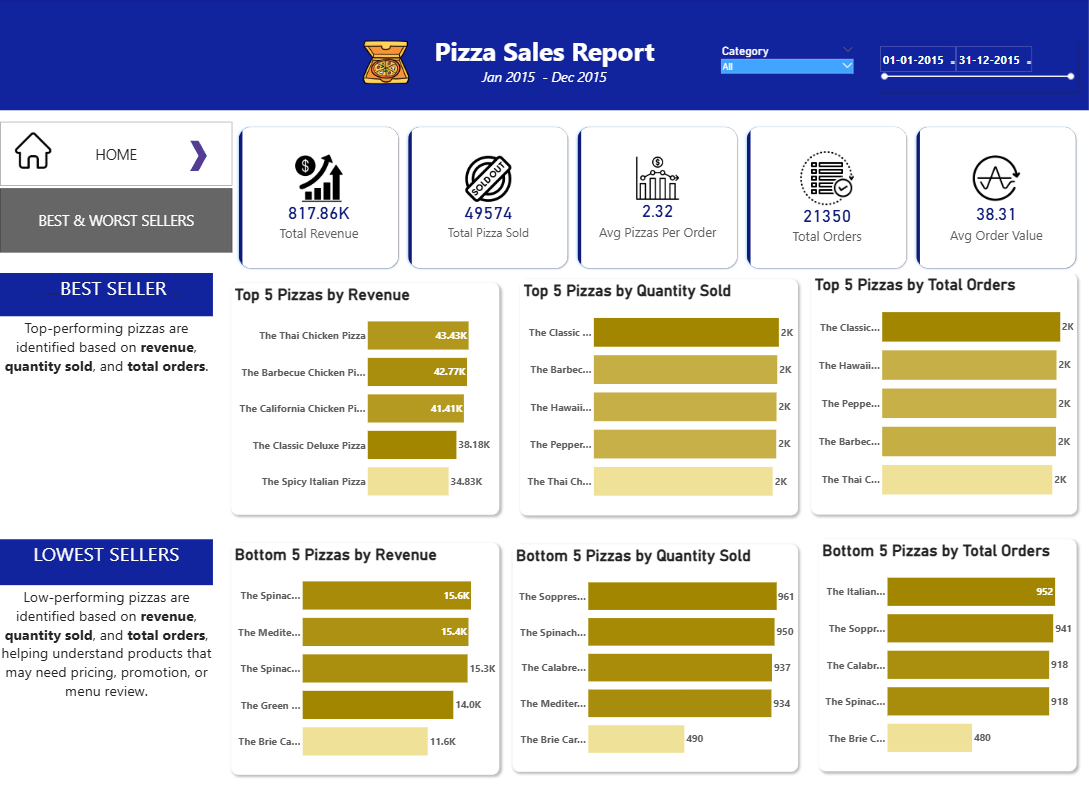

The dashboard page shown, as its layout file describes it:
{"tool":"powerbi","page":{"name":"BEST & WORST SELLERS","canvas":[4500,3300],"ordinal":1},"visuals":[{"type":"textbox","box":[0,0,4499.9,463.7],"z":0},{"type":"clusteredBarChart","title":"Top 5 Pizzas by Revenue","fields":{"Category":["pizza_sales.pizza_name"],"Y":["Sum(pizza_sales.total_price)"]},"box":[957.3,1176.3,1107.5,957.3],"z":1000},{"type":"textbox","box":[0,1137.7,879.9,179.3],"z":2000},{"type":"textbox","box":[0,1317.1,879.9,902.3],"z":3000},{"type":"textbox","box":[0,2236.3,879.9,190.6],"z":4000},{"type":"textbox","box":[0,2426.8,879.9,874.3],"z":5000},{"type":"slicer","fields":{"Values":["pizza_sales.order_date"]},"box":[3620,187.5,830,200],"z":6000},{"type":"image","box":[1402.9,166.4,380.4,202.1],"z":7000},{"type":"pageNavigator","box":[0,510,960,540],"z":8000},{"type":"image","box":[56.7,546.7,160,166.7],"z":9000},{"type":"shape","box":[786.7,586.7,70,126.7],"z":10000},{"type":"clusteredBarChart","title":"Top 5 Pizzas by Quantity Sold","fields":{"Category":["pizza_sales.pizza_name"],"Y":["Sum(pizza_sales.quantity)"]},"box":[2146.6,1160.2,1149,975.2],"z":11000},{"type":"clusteredBarChart","title":"Top 5 Pizzas by Total Orders","fields":{"Category":["pizza_sales.pizza_name"],"Y":["pizza_sales.Total Orders"]},"box":[3351.6,1137.7,1098.5,997.6],"z":12000},{"type":"clusteredBarChart","title":"Bottom 5 Pizzas by Quantity Sold","fields":{"Category":["pizza_sales.pizza_name"],"Y":["Sum(pizza_sales.quantity)"]},"box":[2120,2255,1180,940],"z":13000},{"type":"clusteredBarChart","title":"Bottom 5 Pizzas by Total Orders","fields":{"Category":["pizza_sales.pizza_name"],"Y":["pizza_sales.Total Orders"]},"box":[3385.2,2236.3,1064.9,958.4],"z":14000},{"type":"clusteredBarChart","title":"Bottom 5 Pizzas by Revenue","fields":{"Category":["pizza_sales.pizza_name"],"Y":["Sum(pizza_sales.total_price)"]},"box":[957.3,2252.5,1107.5,957.3],"z":15000},{"type":"slicer","fields":{"Values":["pizza_sales.pizza_category"]},"box":[2970.5,185,566.1,162.5],"z":16000},{"type":"cardVisual","fields":{"Data":["Sum(pizza_sales.total_price)","Sum(pizza_sales.quantity)","pizza_sales.Avg Pizzas Per Order","pizza_sales.Total Orders","pizza_sales.Avg Order Value"]},"box":[964,510,3502.9,627.7],"z":17000}]}

Visuals, with their boxes in screenshot pixels (x1, y1, x2, y2), scaled from the page's 4500x3300 canvas onto the 1089x795 screenshot:
textbox: [left=0, top=0, right=1088, bottom=112]
"Top 5 Pizzas by Revenue" clusteredBarChart: [left=232, top=283, right=500, bottom=514]
textbox: [left=0, top=274, right=213, bottom=317]
textbox: [left=0, top=317, right=213, bottom=535]
textbox: [left=0, top=539, right=213, bottom=585]
textbox: [left=0, top=585, right=213, bottom=794]
slicer - pizza_sales.order_date: [left=876, top=45, right=1077, bottom=93]
image: [left=340, top=40, right=432, bottom=89]
pageNavigator: [left=0, top=123, right=232, bottom=253]
image: [left=14, top=132, right=52, bottom=172]
shape: [left=190, top=141, right=207, bottom=172]
"Top 5 Pizzas by Quantity Sold" clusteredBarChart: [left=519, top=280, right=798, bottom=514]
"Top 5 Pizzas by Total Orders" clusteredBarChart: [left=811, top=274, right=1077, bottom=514]
"Bottom 5 Pizzas by Quantity Sold" clusteredBarChart: [left=513, top=543, right=799, bottom=770]
"Bottom 5 Pizzas by Total Orders" clusteredBarChart: [left=819, top=539, right=1077, bottom=770]
"Bottom 5 Pizzas by Revenue" clusteredBarChart: [left=232, top=543, right=500, bottom=773]
slicer - pizza_sales.pizza_category: [left=719, top=45, right=856, bottom=84]
cardVisual - Sum(pizza_sales.total_price) x Sum(pizza_sales.quantity): [left=233, top=123, right=1081, bottom=274]
